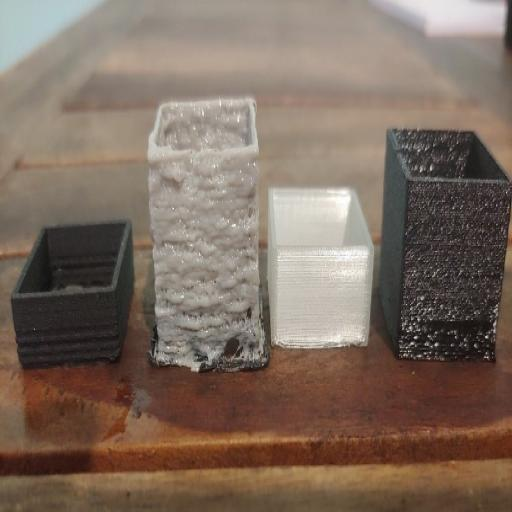blobs: (154, 240, 256, 356), (149, 148, 257, 224), (411, 294, 479, 362)
cracks: (15, 307, 118, 374)
